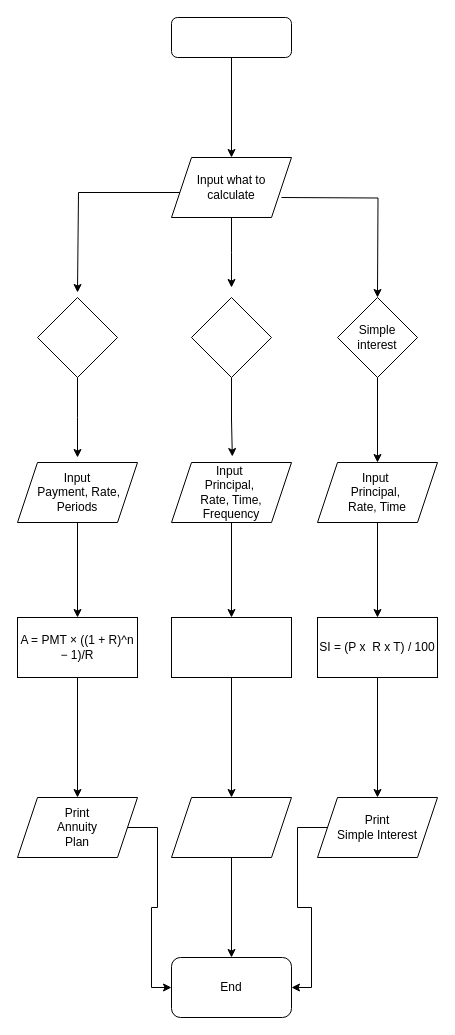
This 455x1035 diagram has some shape labels left out. The centre of each missing label's shape, as x and y in pixels:
"Annuity plan" belongs at point 77,337.
"CI = P × (1 + R/(100n))^(n×T) − P" belongs at point 231,647.
"Compound interest" belongs at point 231,337.
"Print Compound Interest" belongs at point 231,827.
"Start" belongs at point 231,37.
